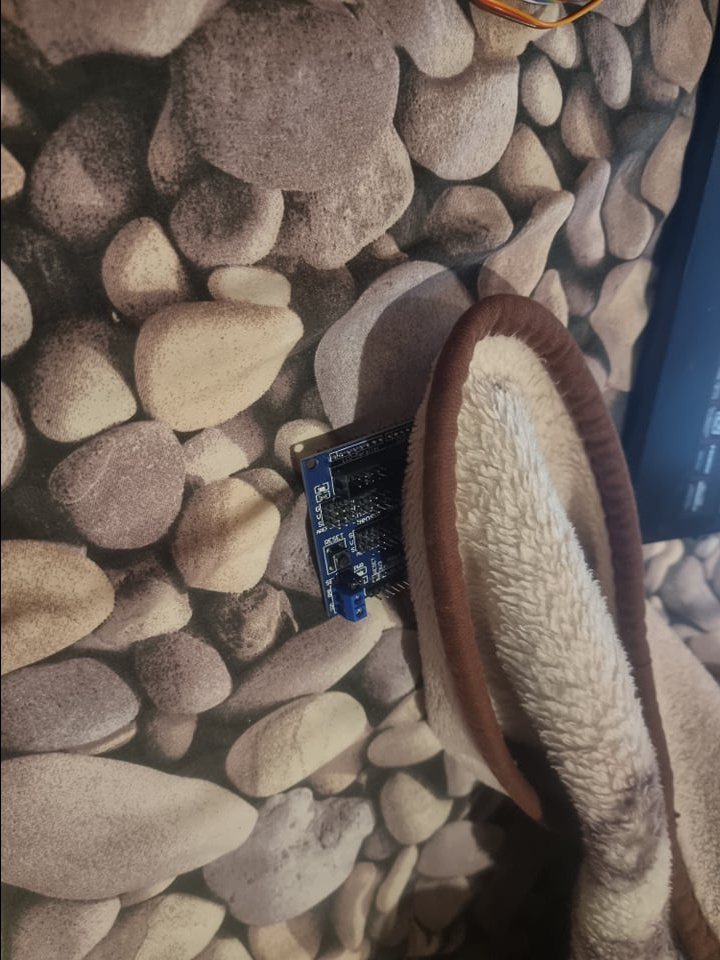5V EXPANSION: (296, 416, 419, 623)
